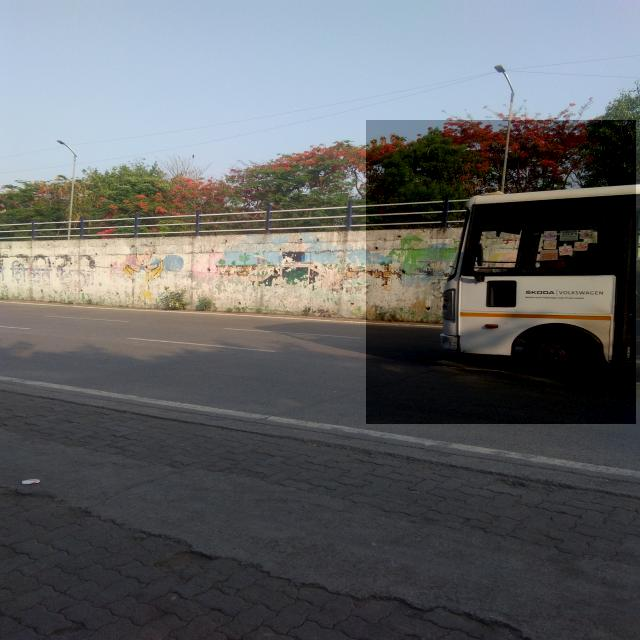Bus: (366, 120, 636, 424)
